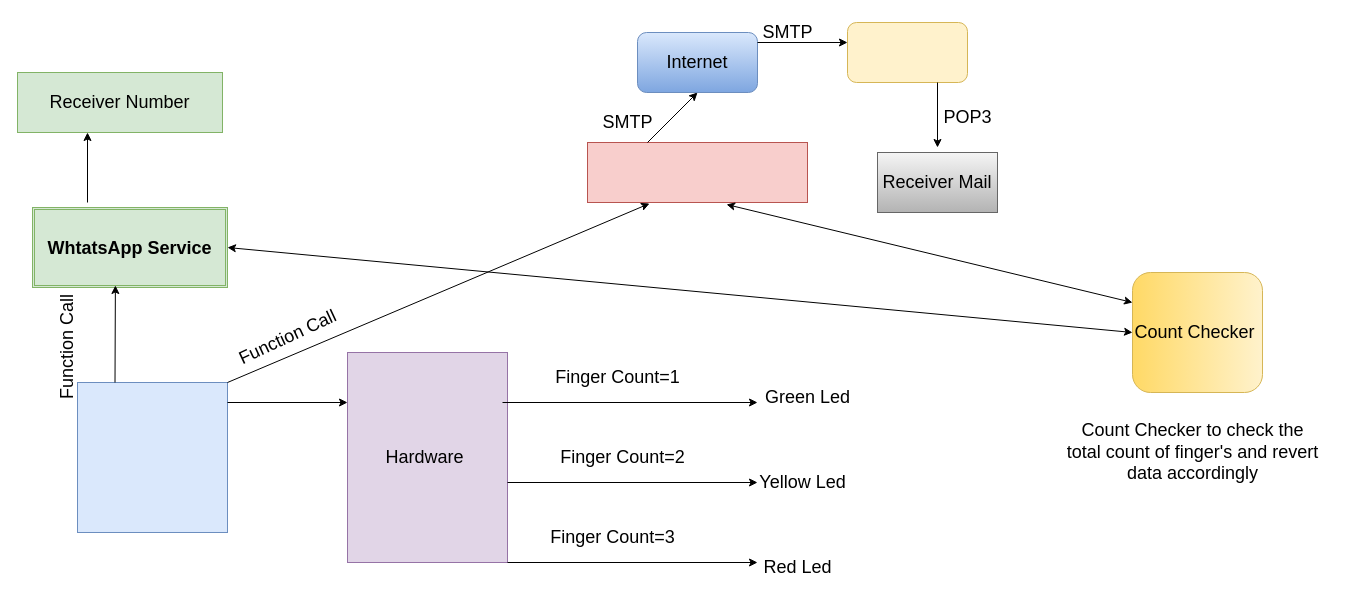
This 1345x599 diagram has some shape labels left out. The shapes that lost their labels are listed below. From the top down, each one's centre as x and y in pixels, then its label:
pixel 907 52: Mail Server
pixel 697 172: Email Service
pixel 152 457: Main Code
